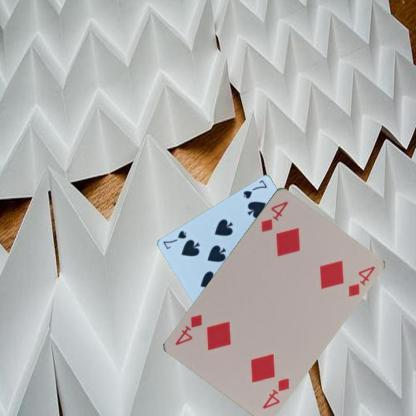4d: (258, 198, 290, 234), (260, 375, 292, 410)
7s: (240, 178, 268, 200)
